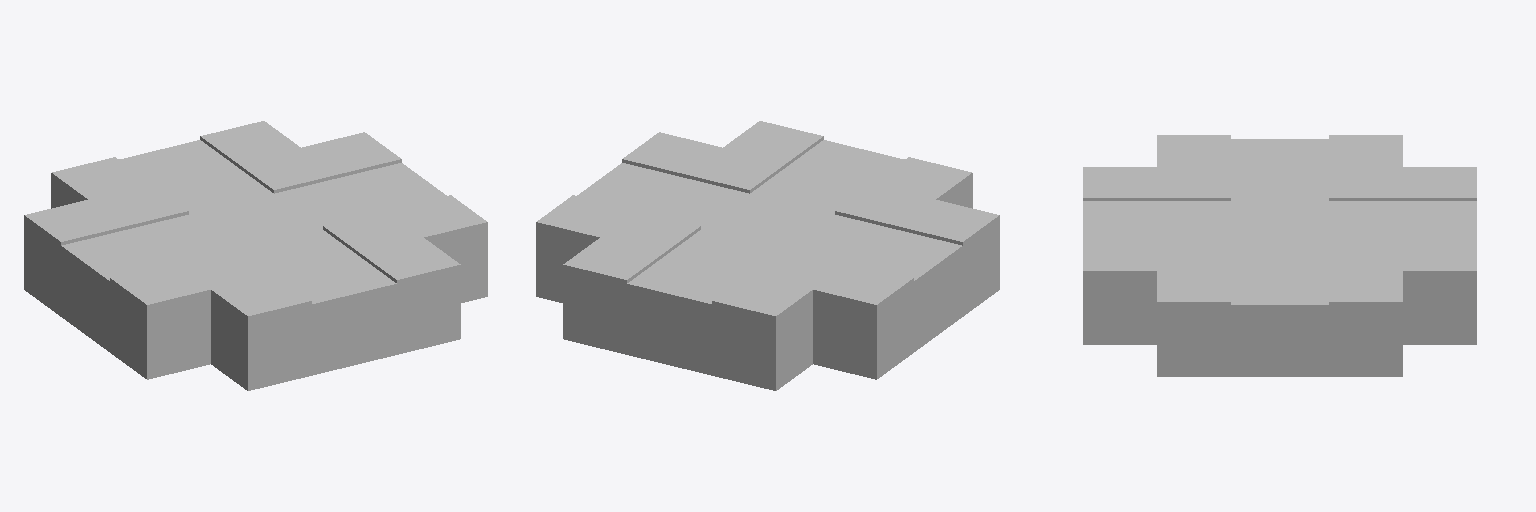
Rendered from tile129.obj.
3 renders of one model, left to right at view 1: azimuth 30°, elevation 25°; view 2: azimuth 150°, elevation 25°; view 3: azimuth 270°, elevation 25°, orthographic.
Visible parts, largest first — view 1: tile129; view 2: tile129; view 3: tile129.
Part boxes in pixels (left/top/right/bottom): tile129: left=24, top=121, right=487, bottom=390; tile129: left=536, top=121, right=999, bottom=390; tile129: left=1083, top=135, right=1476, bottom=376.
Bounding box in the file's own units: 1 × 0.21 × 1.